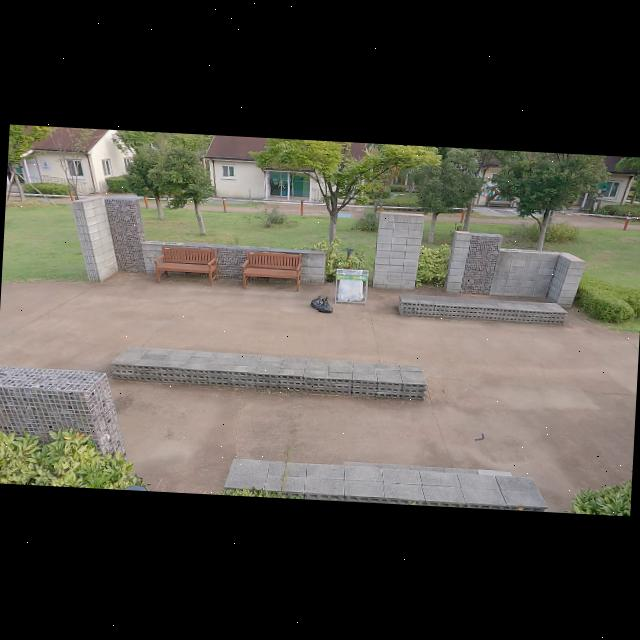trash: (317, 296, 335, 314), (308, 294, 328, 310), (327, 273, 334, 280)
